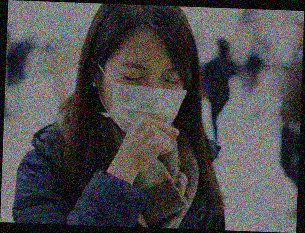with_mask: (102, 60, 187, 136)
